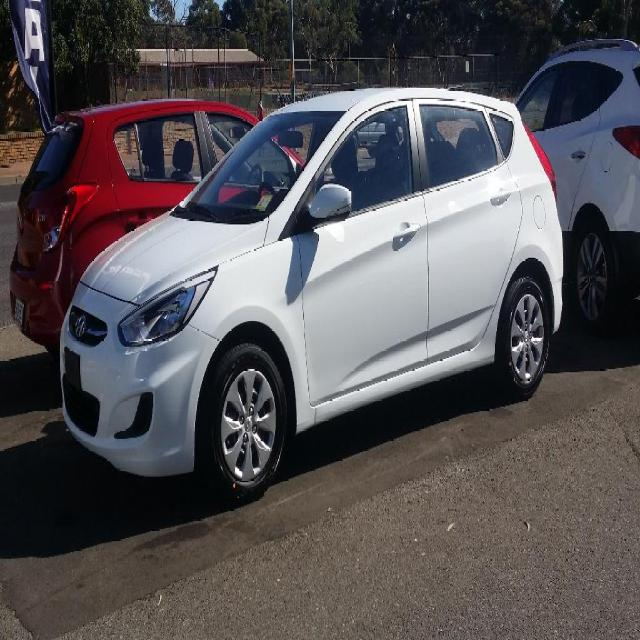car: (54, 78, 566, 512)
